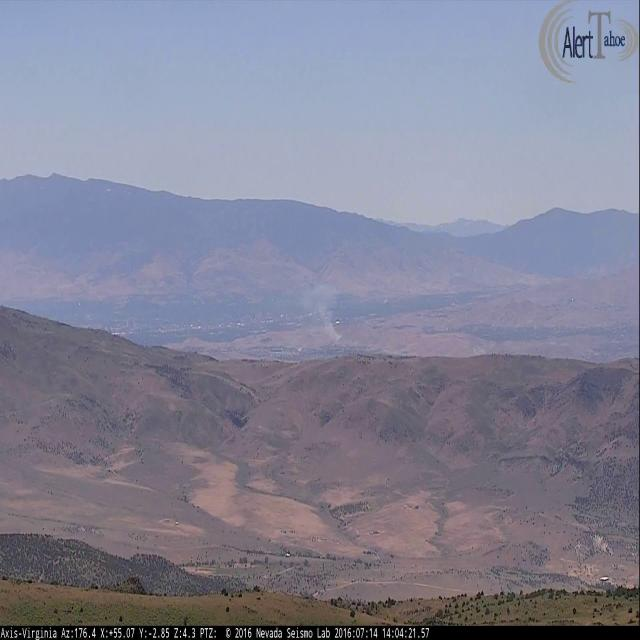smoke: (300, 286, 344, 348)
